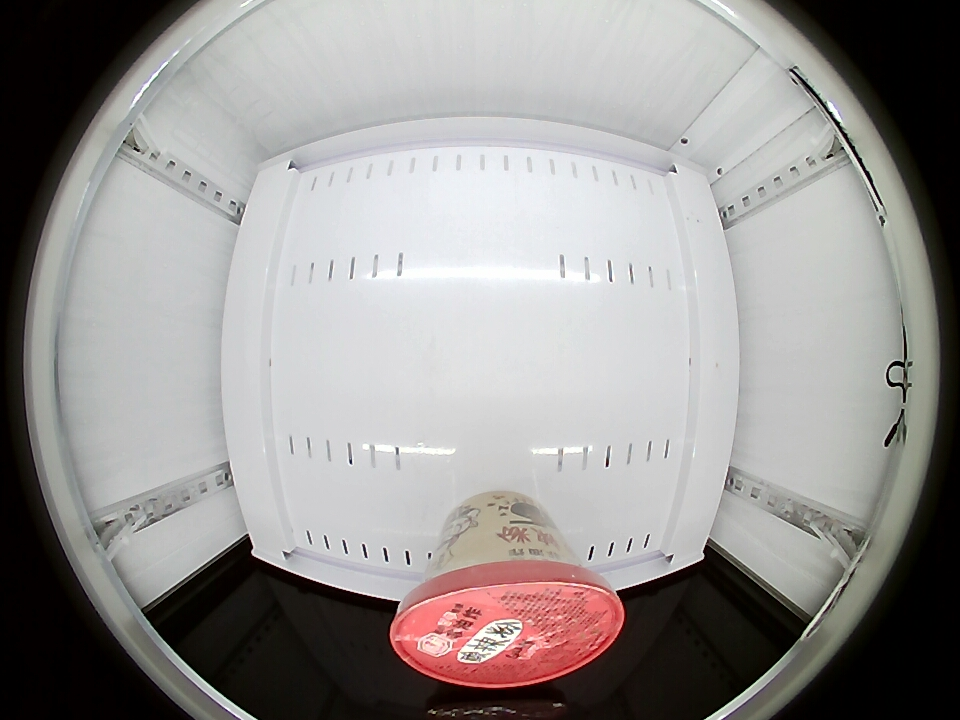suanlafen: (389, 545, 625, 688)
